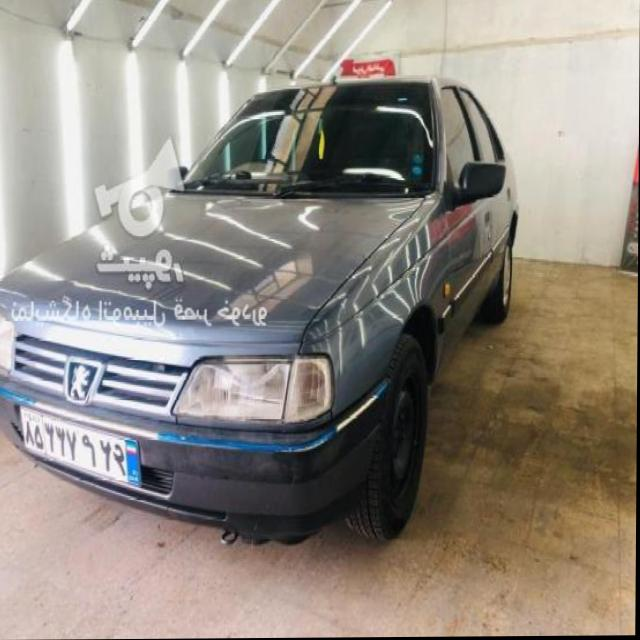licence: (16, 404, 143, 490)
